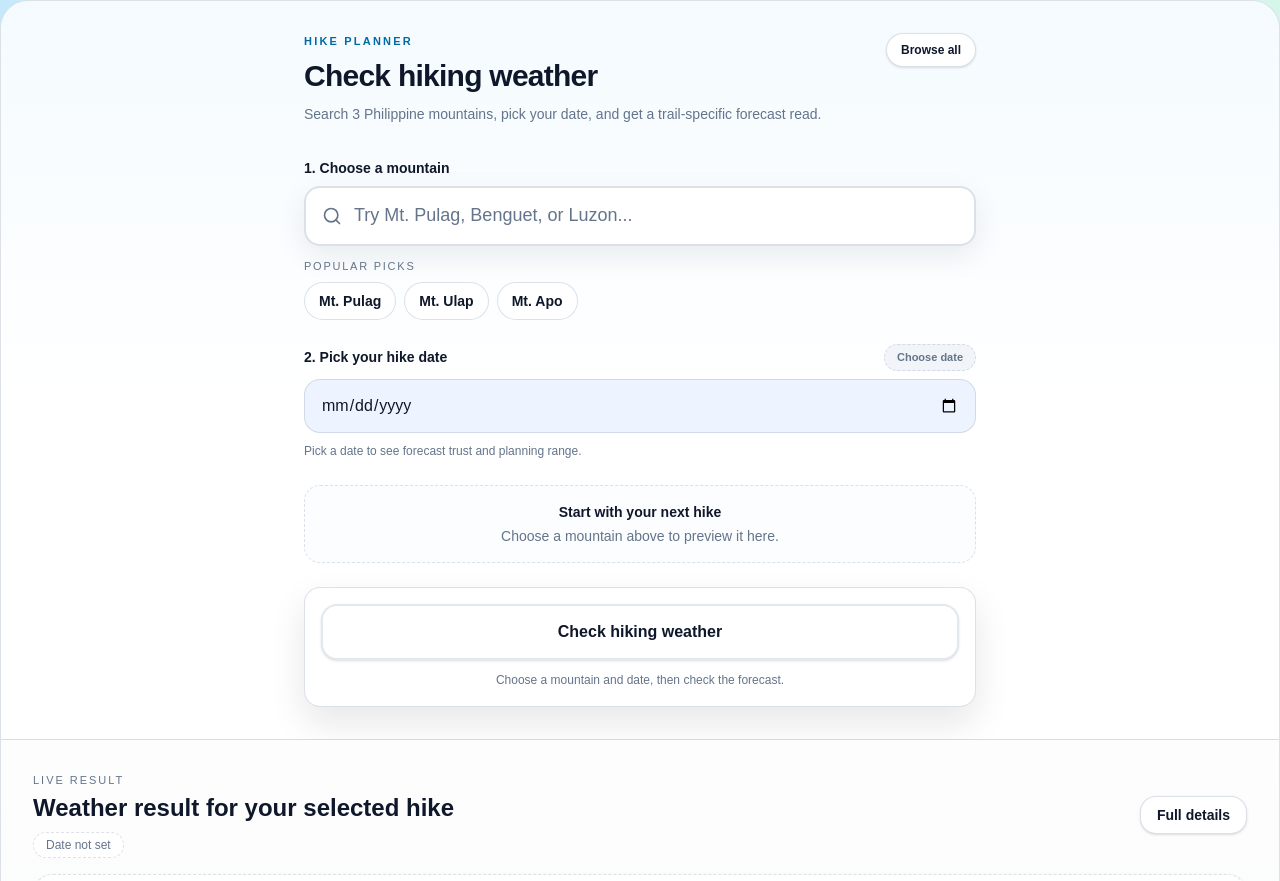
Test: HomePlannerClient › supports combobox semantics and keyboard selection
In the dropdown named "Search mountains": (656, 216) [354,188,958,244], type "apo"
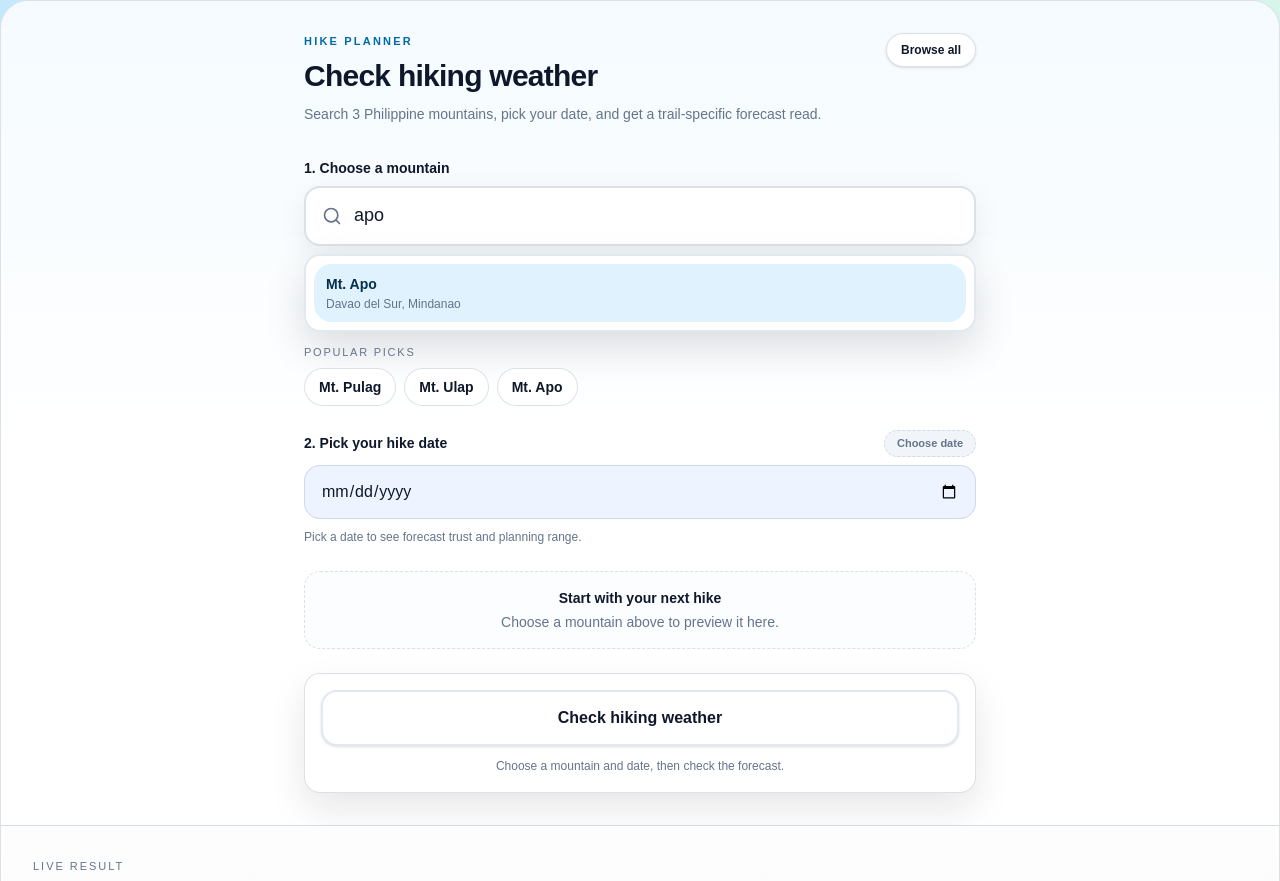
Now the option "Mt. Apo Davao del Sur, Mindanao" is shown, box [314,264,966,322]
Press Enter in the dropdown named "Search mountains", box [354,188,958,244]
(page scrolled)
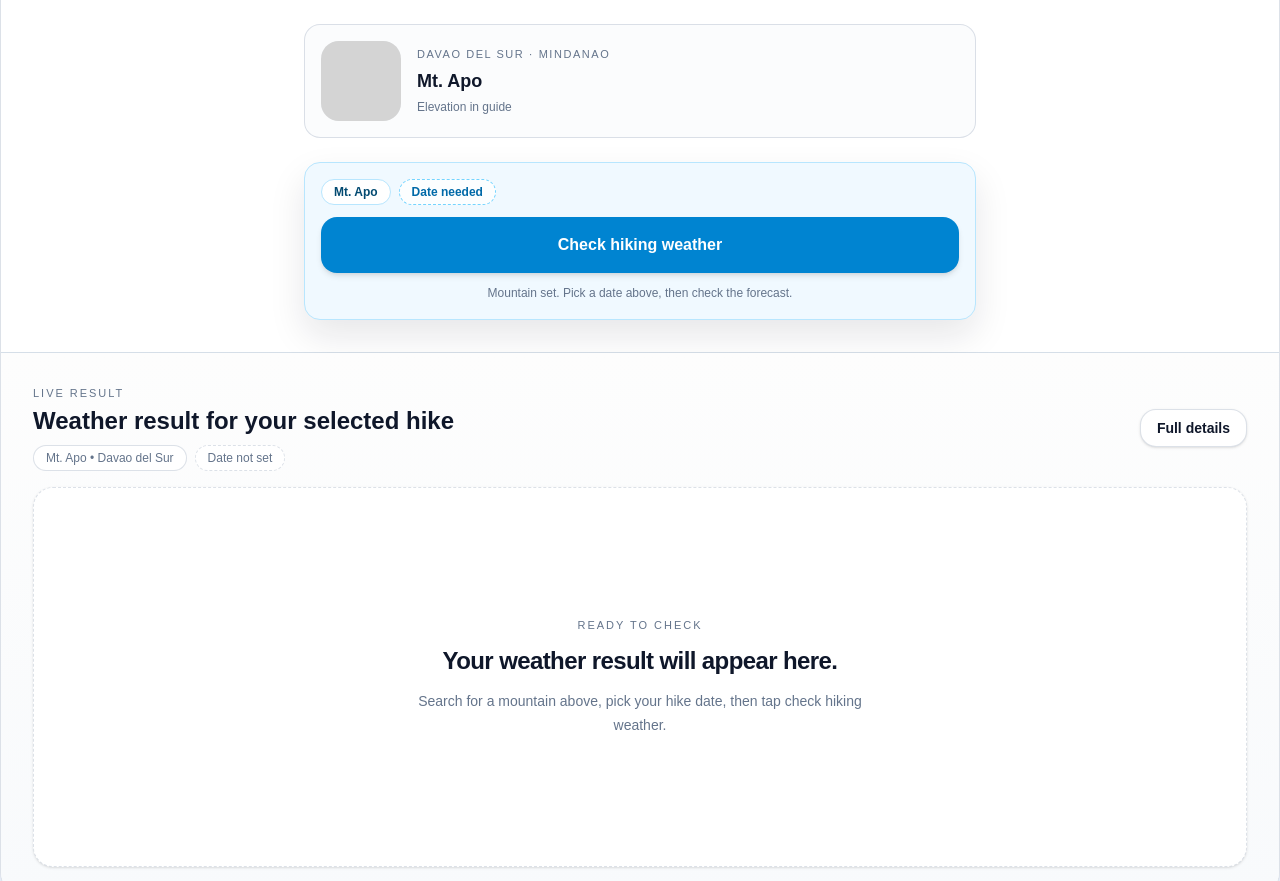
Now the text "Mt. Apo • Davao del Sur" is shown, box [33,445,187,471]
